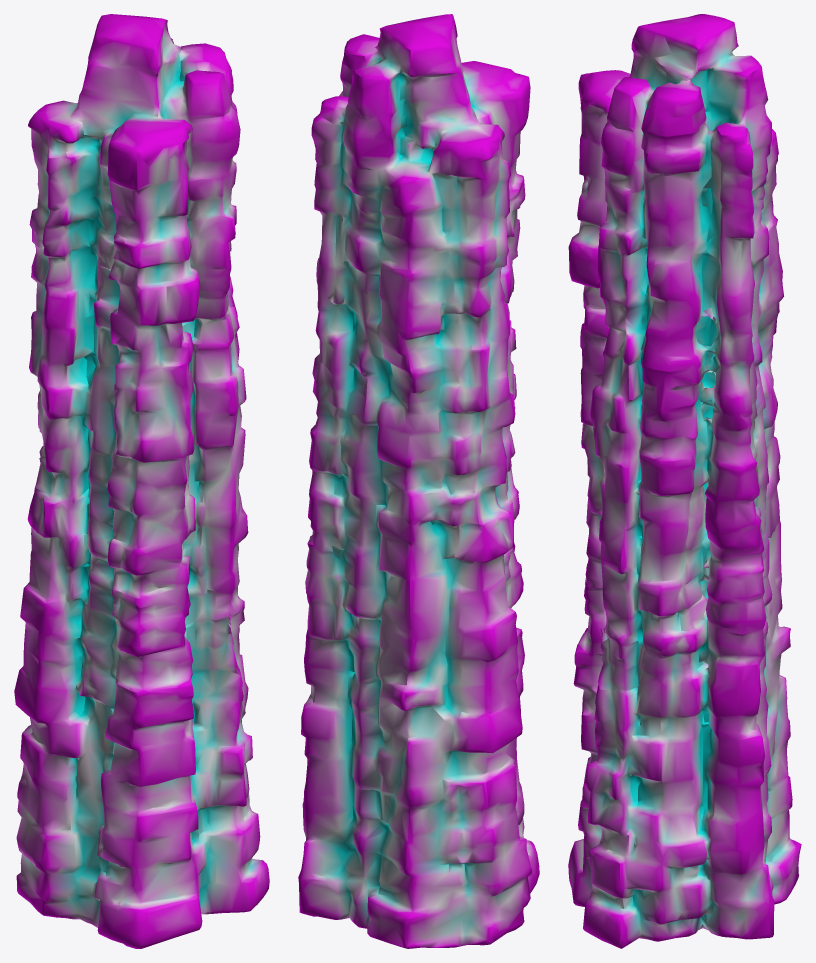
Rendered from Macico_8_Longe.fbx.
3 renders of one model, left to right at view 1: azimuth 30°, elevation 25°; view 2: azimuth 150°, elevation 25°; view 3: azimuth 270°, elevation 25°, orthographic.
Visible parts, largest first — view 1: Macico_8_Longe; view 2: Macico_8_Longe; view 3: Macico_8_Longe.
Part boxes in pixels (left/top/right/bottom): Macico_8_Longe: left=14, top=14, right=269, bottom=948; Macico_8_Longe: left=298, top=14, right=539, bottom=948; Macico_8_Longe: left=568, top=14, right=801, bottom=948.
Bounding box in the file's own units: 91.07 × 377 × 90.07.
